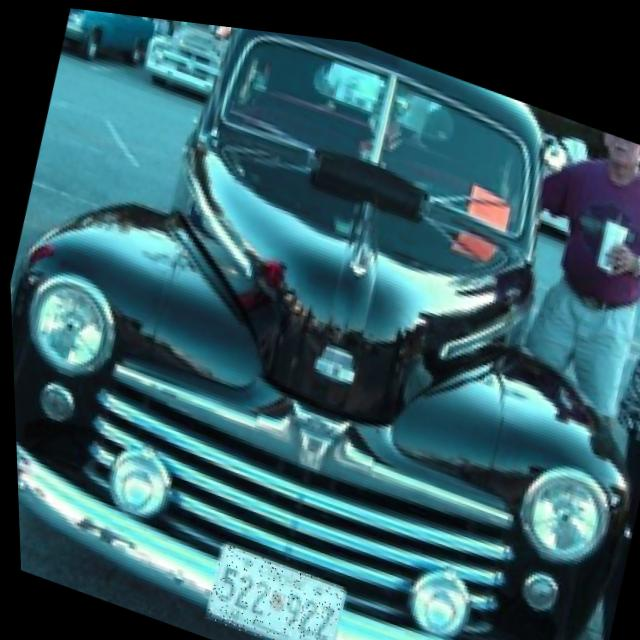license_plate: (197, 535, 342, 640)
